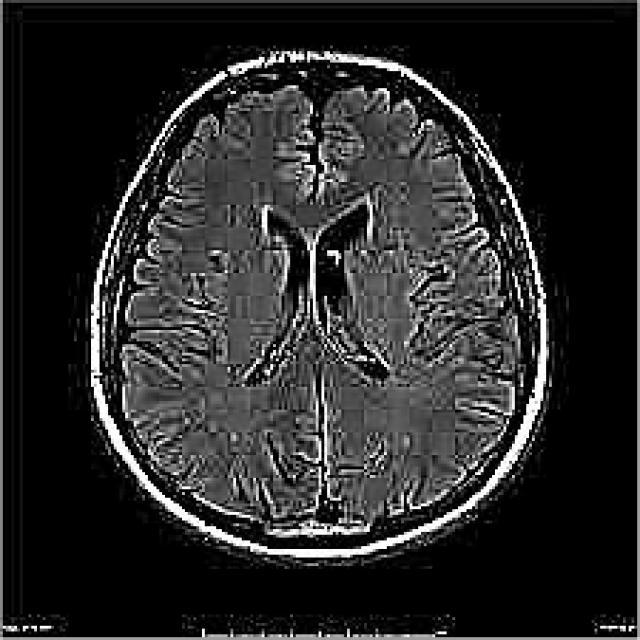notumor: (85, 51, 552, 563)
